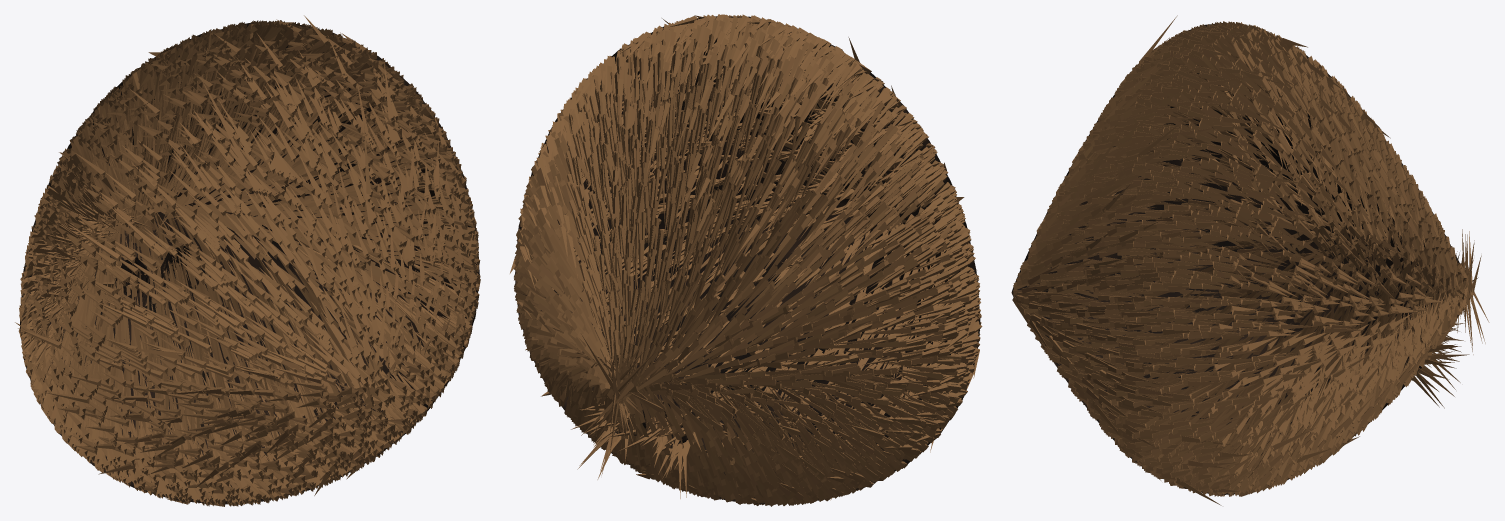
The model's file is Spinne_Abdomen.fbx.
3 views of the same model, side by side, from view 1: azimuth 30°, elevation 25°; view 2: azimuth 150°, elevation 25°; view 3: azimuth 270°, elevation 25° (orthographic). The views are drawn at different scales.
Parts seen in each view (by area): view 1: Spinne_Abdomen; view 2: Spinne_Abdomen; view 3: Spinne_Abdomen.
Boxes of the visible parts, x1,y1,x2,y2 form: Spinne_Abdomen: [15, 15, 480, 506]; Spinne_Abdomen: [510, 14, 982, 506]; Spinne_Abdomen: [1011, 15, 1489, 505].
Bounding box in the file's own units: 1 × 1 × 1.
